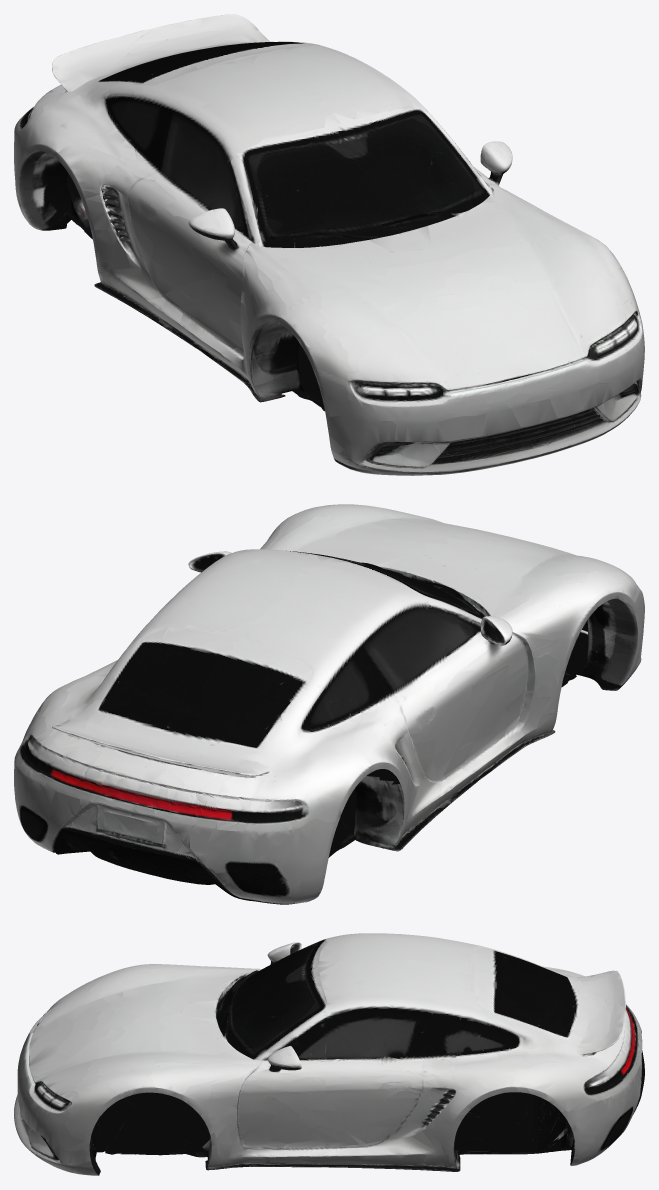
Rendered from euro.glb.
The picture shows the model from 3 angles, top to bottom: view 1: azimuth 30°, elevation 25°; view 2: azimuth 150°, elevation 25°; view 3: azimuth 270°, elevation 25°; orthographic projection. The views are drawn at different scales.
Parts seen in each view (by area): view 1: Mesh_0; view 2: Mesh_0; view 3: Mesh_0.
Boxes of the visible parts, x1=… form: Mesh_0: x1=14, y1=14, x2=644, y2=475; Mesh_0: x1=14, y1=504, x2=644, y2=904; Mesh_0: x1=14, y1=933, x2=644, y2=1175.
Bounding box in the file's own units: 0.4559 × 0.2857 × 1.
Materials: 1 (1 with a texture image).
